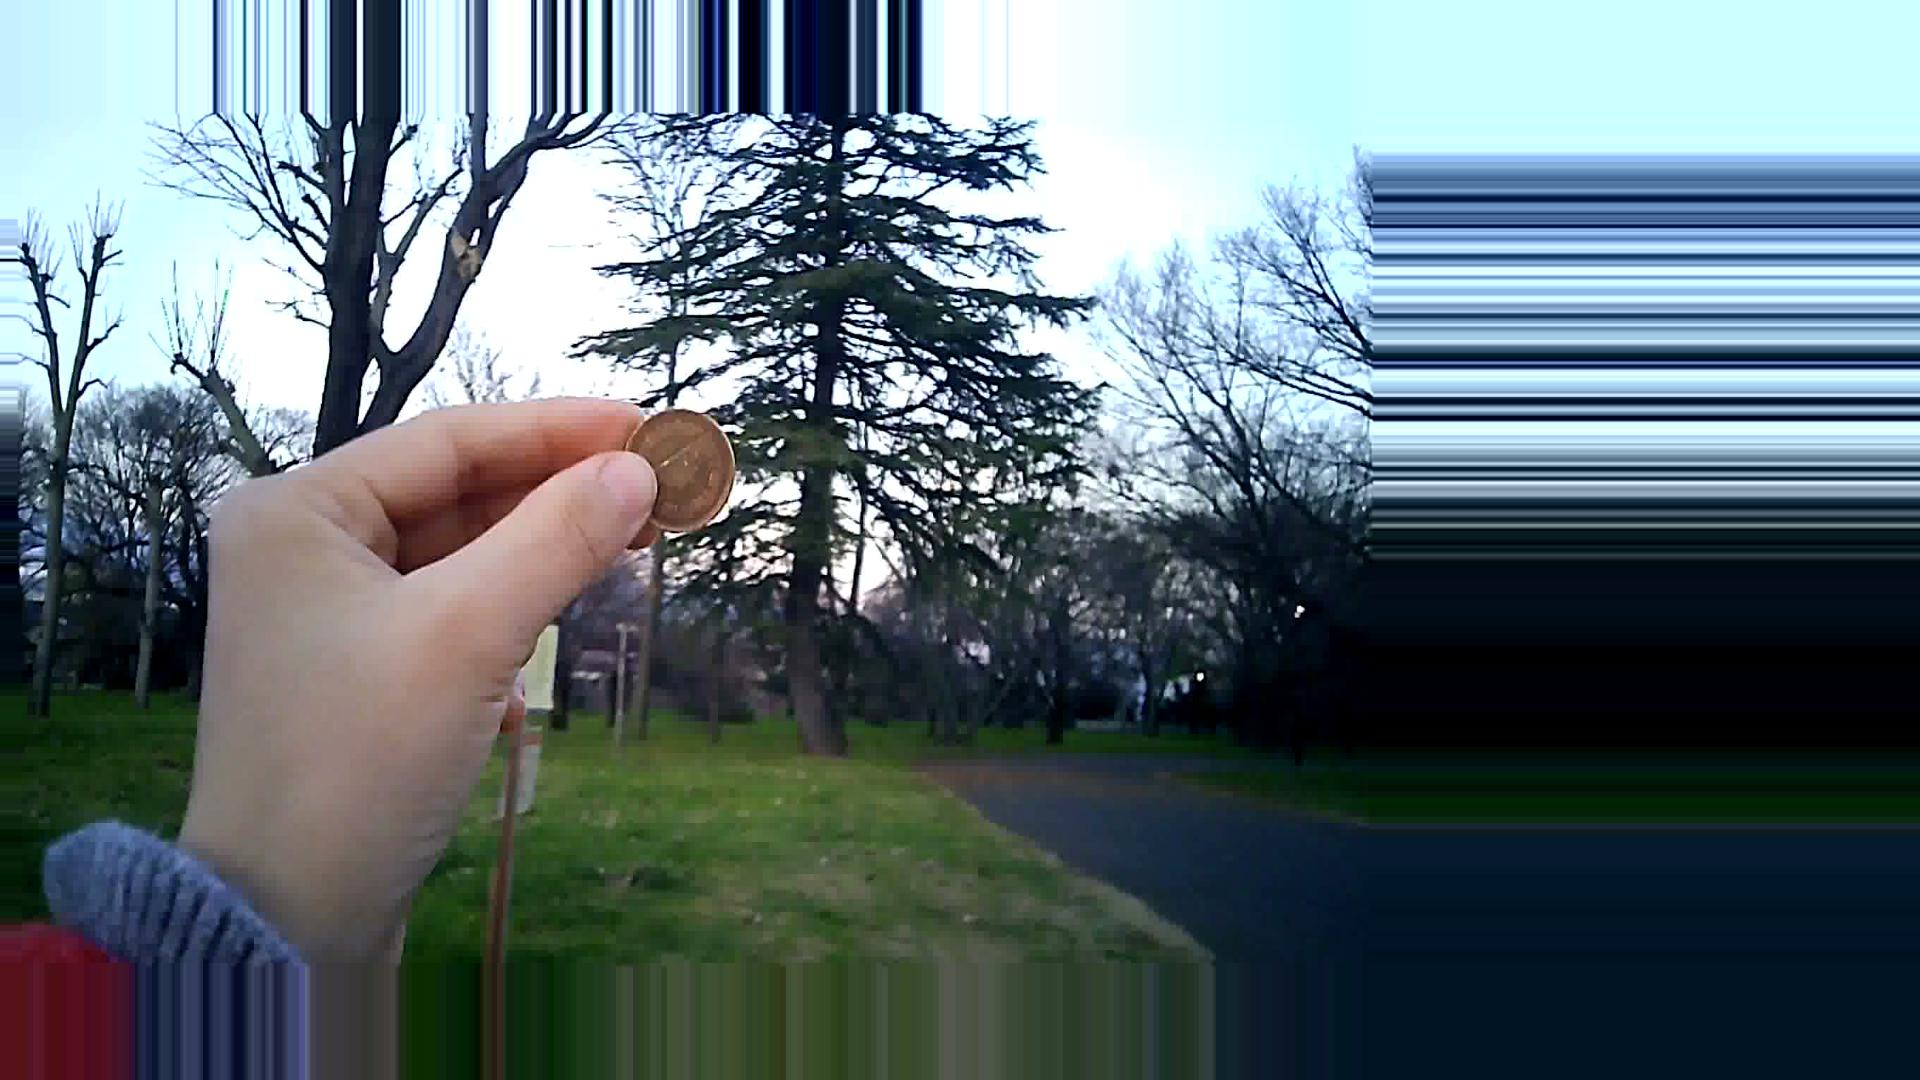10 Yen: (612, 414, 744, 541)
